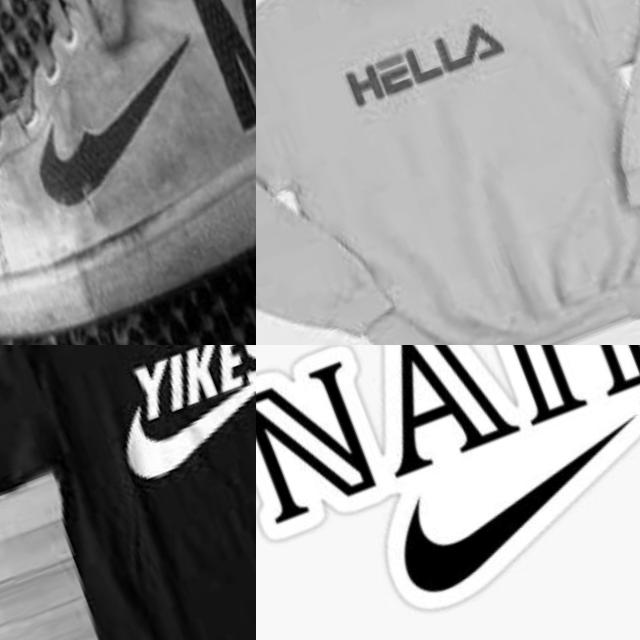FILA_fake: (314, 0, 534, 132)
NIKE_fake: (256, 345, 640, 640), (2, 26, 239, 220), (77, 345, 256, 498)
